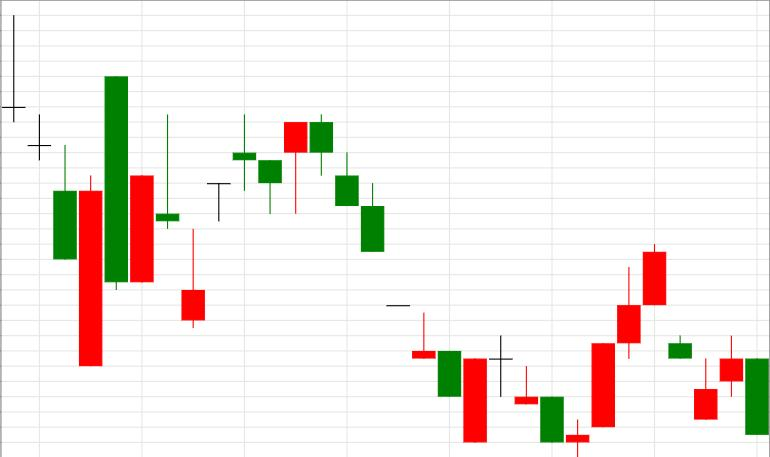hanging_man_fall: (181, 114, 308, 328)
three_white_soldiers_rise: (489, 243, 666, 456)
